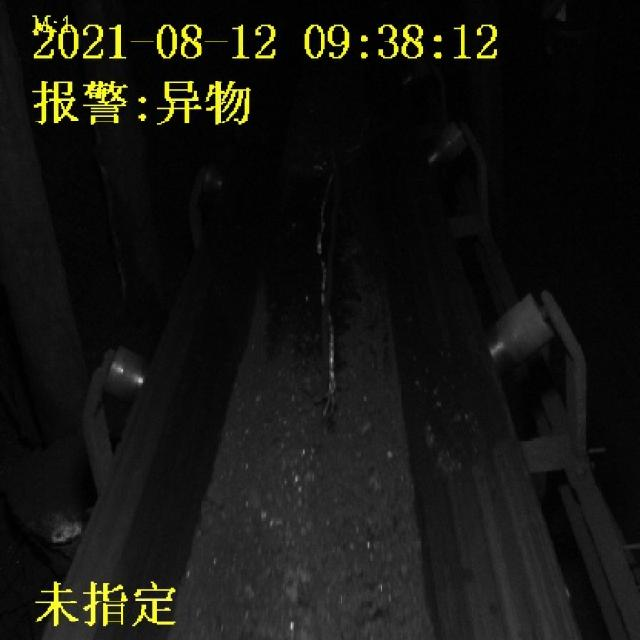bolt: (308, 171, 342, 414)
